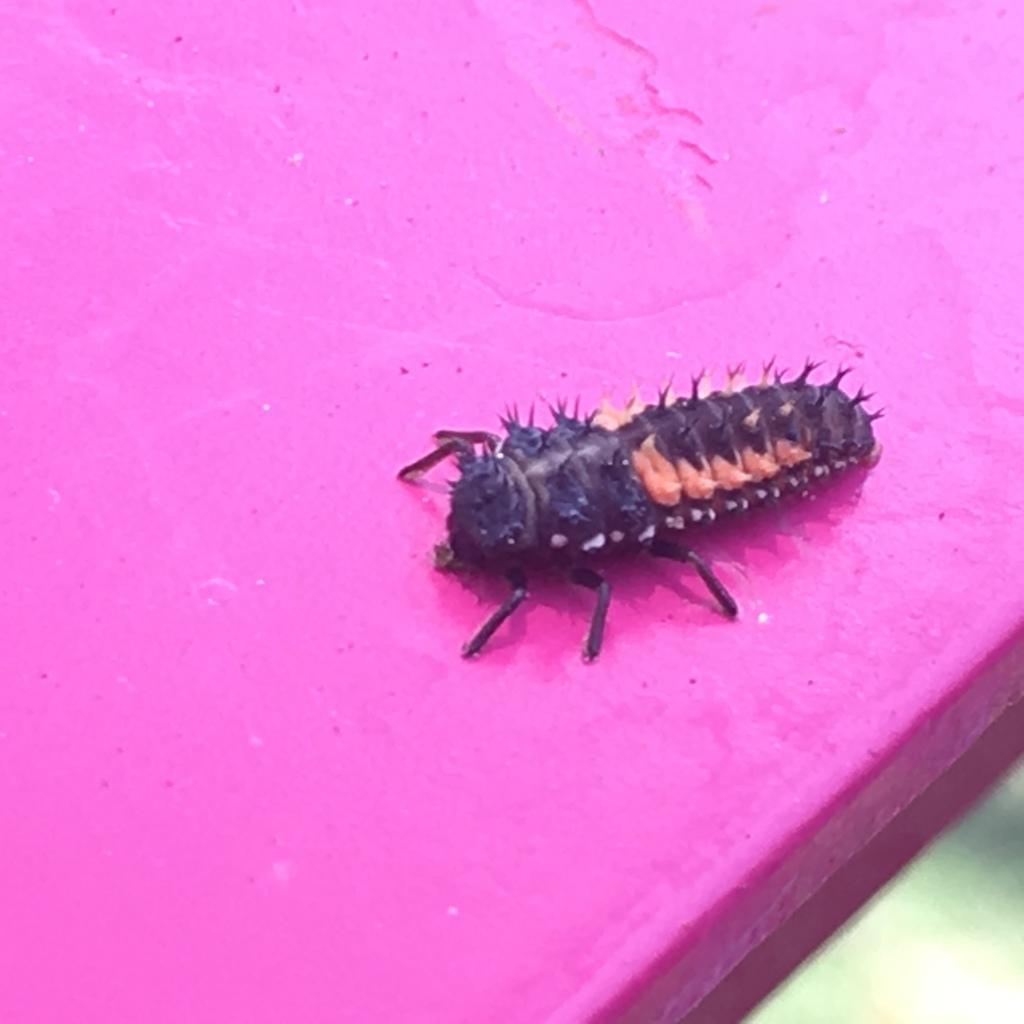ladybug: (396, 351, 891, 671)
